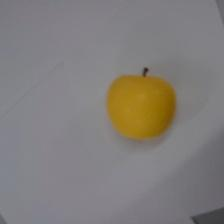yellow: (106, 68, 176, 140)
